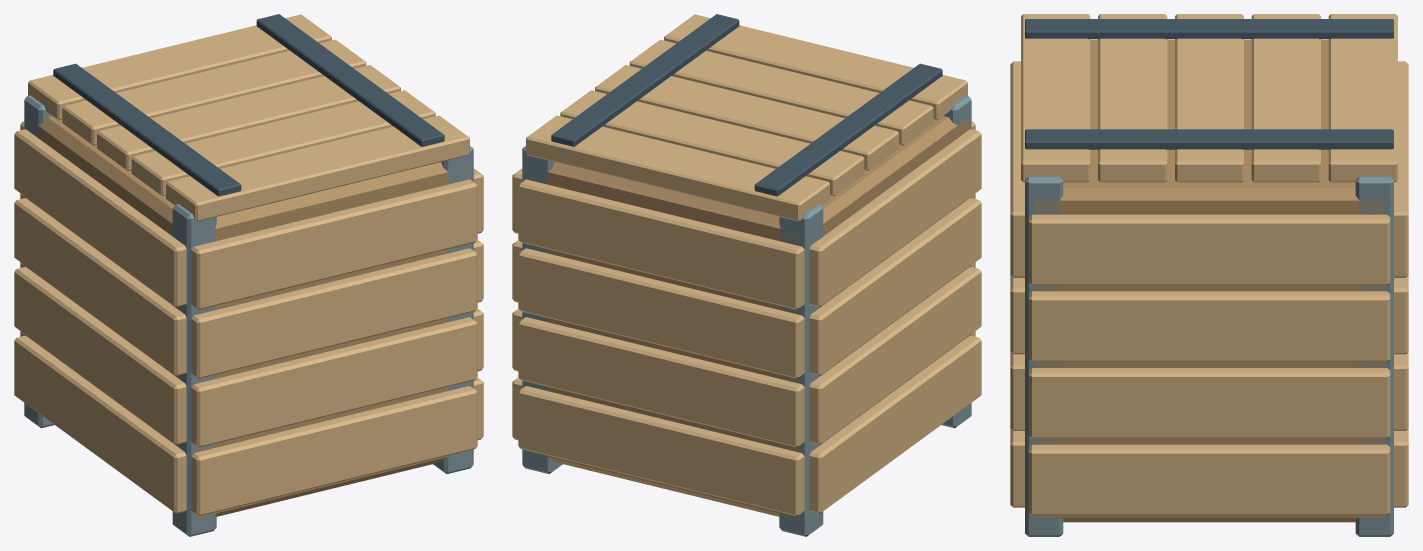
Rendered from cargo_crate.glb.
The picture shows the model from 3 angles, left to right: view 1: azimuth 30°, elevation 25°; view 2: azimuth 150°, elevation 25°; view 3: azimuth 270°, elevation 25°; orthographic projection. The views are drawn at different scales.
Visible parts, largest first — view 1: cargo_crate; view 2: cargo_crate; view 3: cargo_crate.
Part boxes in pixels (x1,y1,x2,y2): cargo_crate: [14, 14, 483, 536]; cargo_crate: [512, 14, 981, 536]; cargo_crate: [1010, 14, 1408, 536].
Size of the model in its own units: 1.04 by 1.09 by 1.04.
